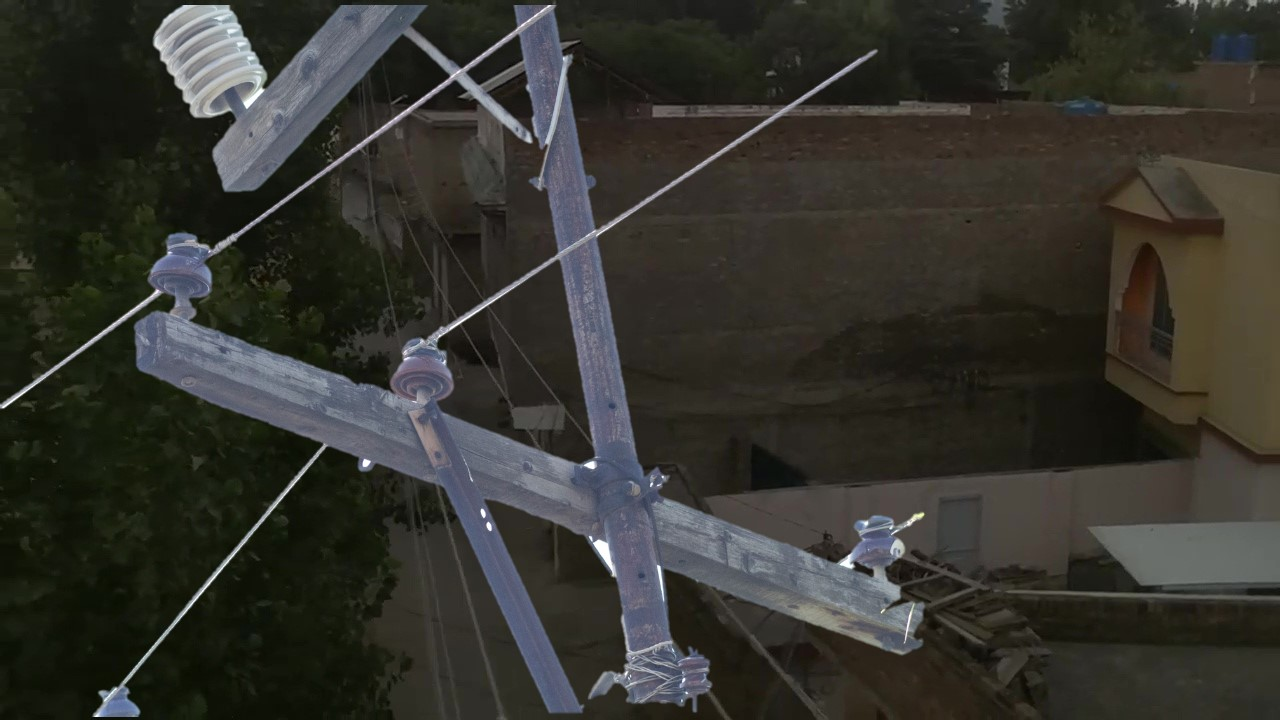defect_pin: (843, 499, 915, 576)
insulator_pin: (140, 225, 225, 310), (387, 333, 464, 404)
